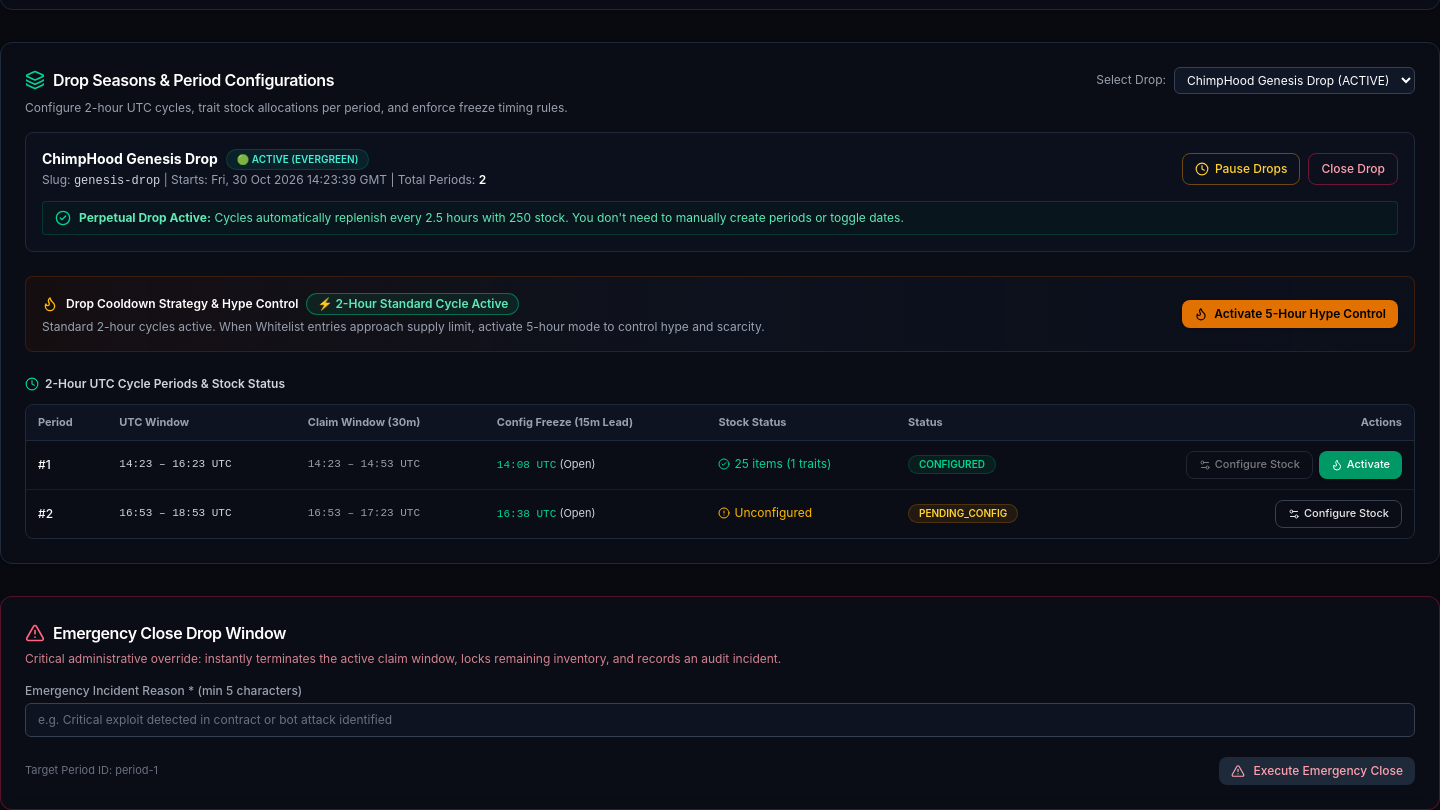
Test: Admin Drops Portal UI - B-1 Drop Configuration Component › opens Stock Configuration modal and saves stock with equal probability default
(page scrolled)
Expected: the text "#2" is shown, [26,489,107,538]
Period 2 Configure Stock button
Step 1. Click the button "Configure Stock" in the row of "18:53" → x=1338, y=514, box [1275,500,1402,528]
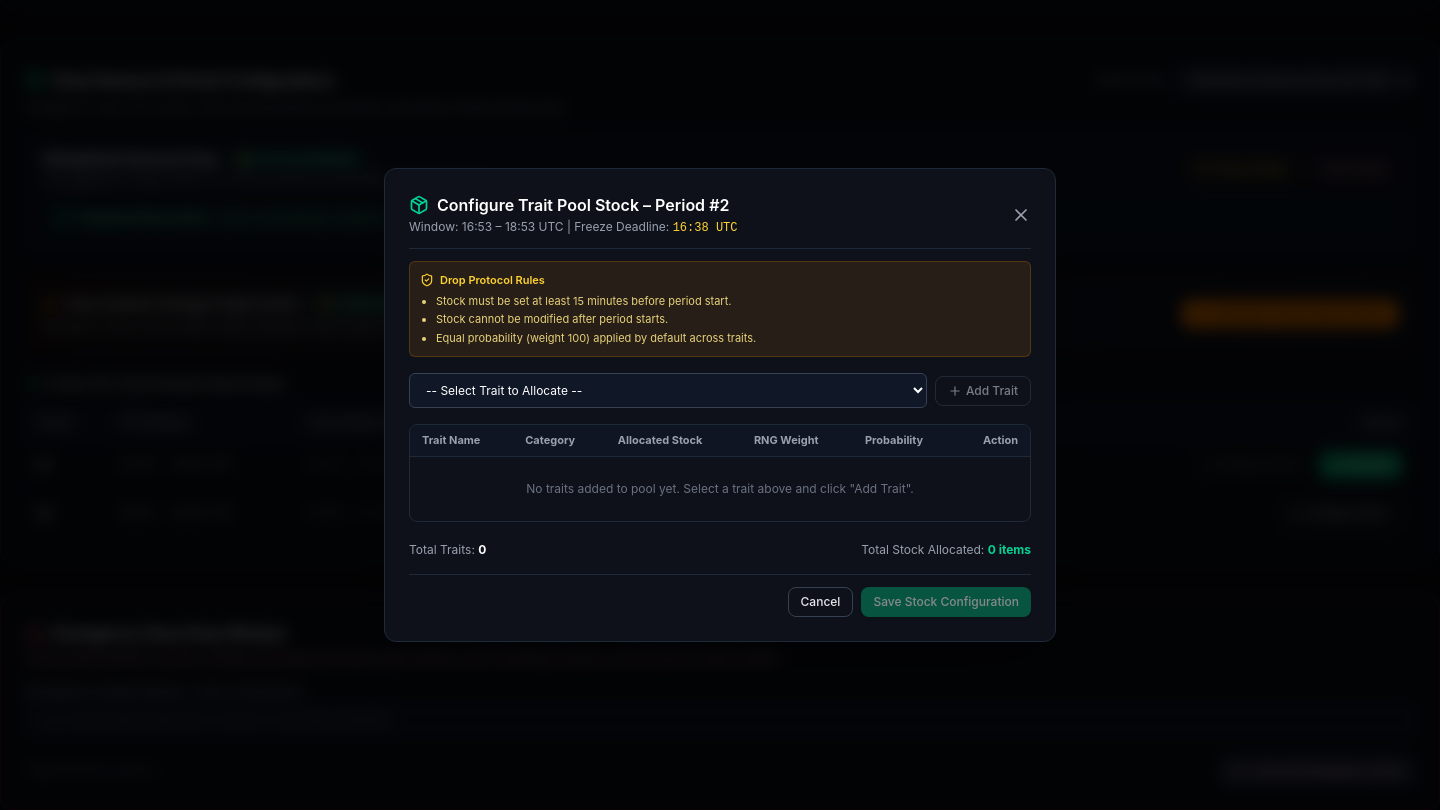
Expected: the heading "Configure Trait Pool Stock – Period #2" is shown, [437,193,729,217]
Expected: the text "Drop Protocol Rules" is shown, [420,273,545,288]
Step 2. Select "Golden Fur (FUR • EPIC)" in the dropdown → x=668, y=391, box [409,373,927,408]
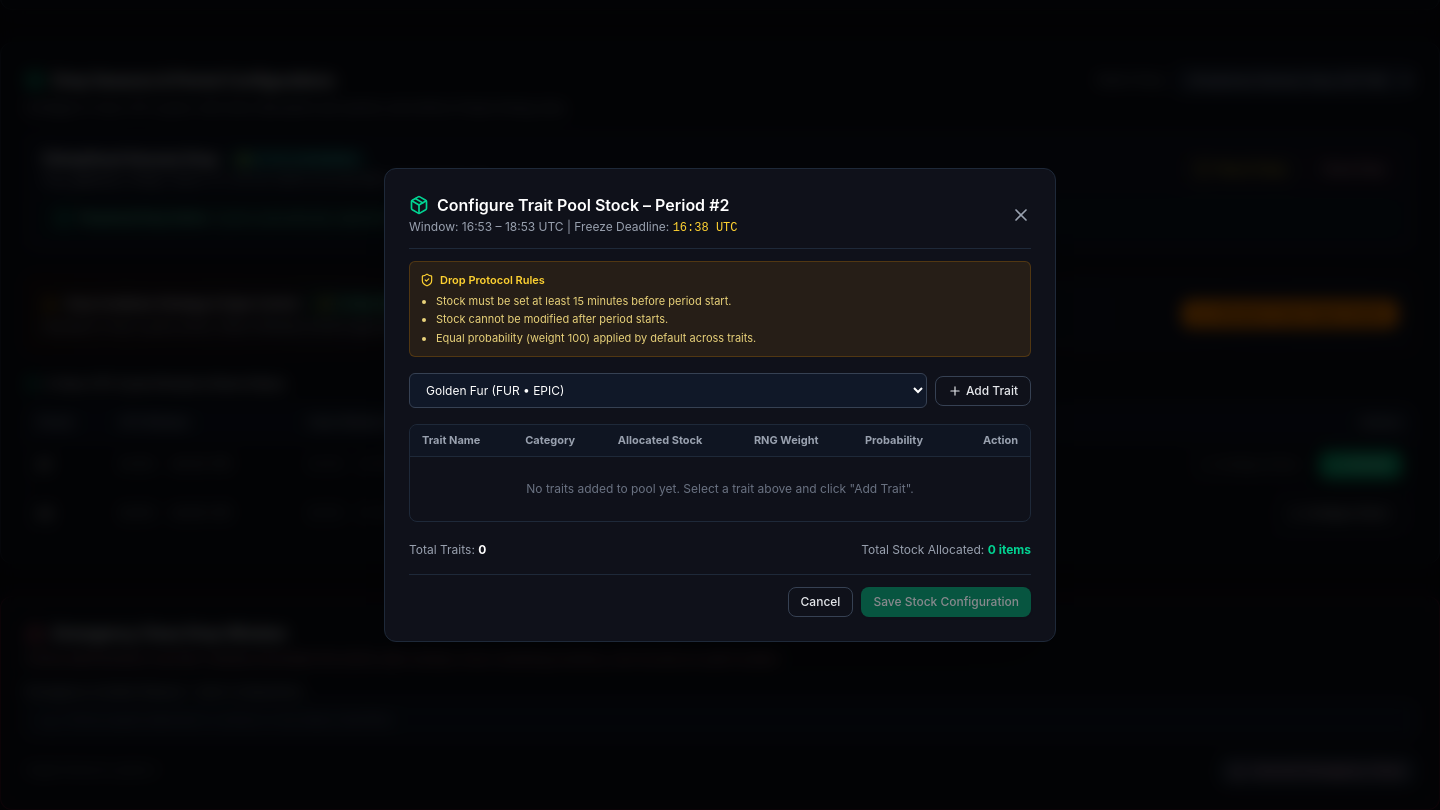
Click Add Trait
Step 3. Click the button "Add Trait" → x=983, y=391, box [935,376,1031,406]
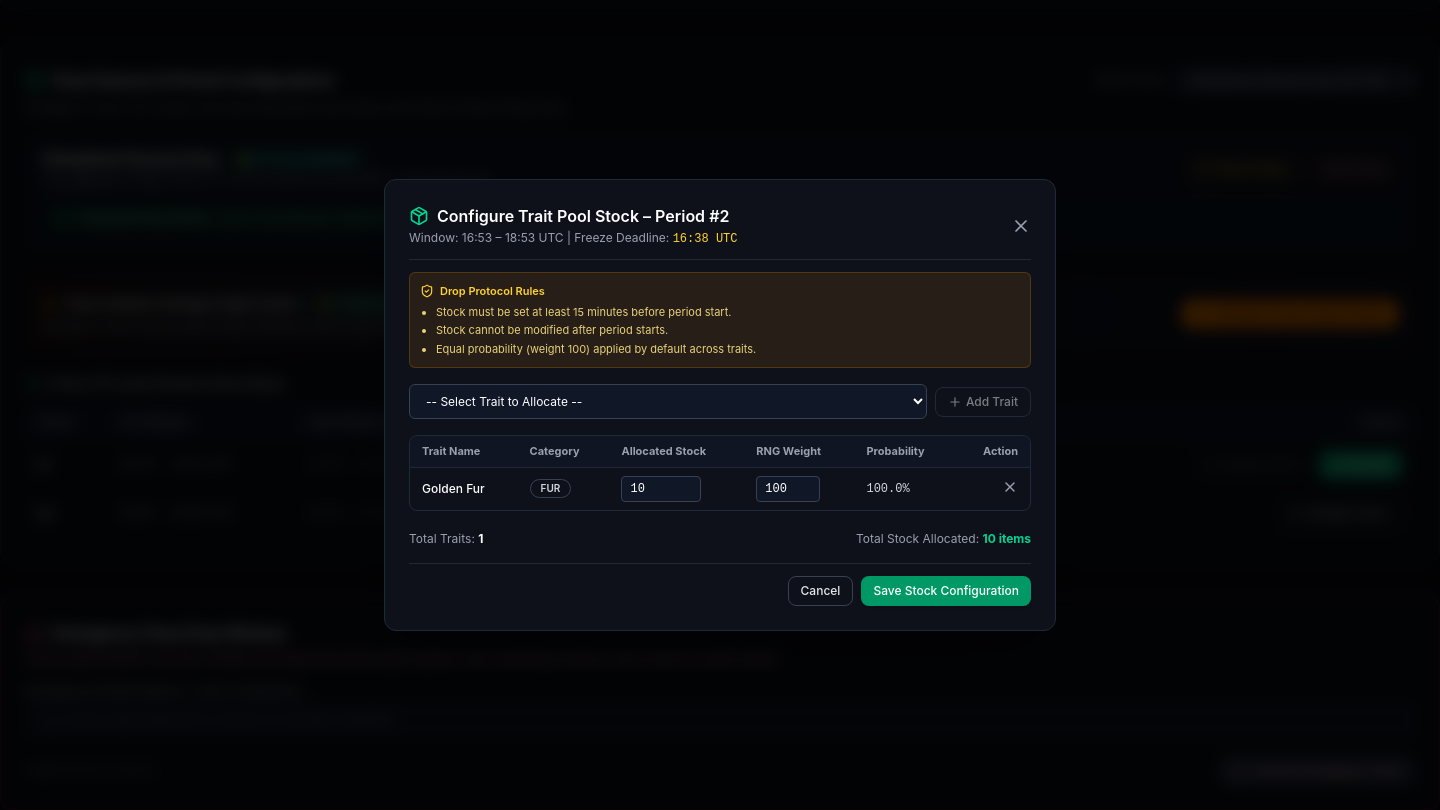
Expected: the 1st number field showing "10" is shown, [621,476,701,502]
Expected: the 2nd number field showing "100" is shown, [756,476,820,502]
Click Save Stock Configuration
Step 4. Click the button "Save Stock Configuration" → x=946, y=591, box [861,576,1031,606]
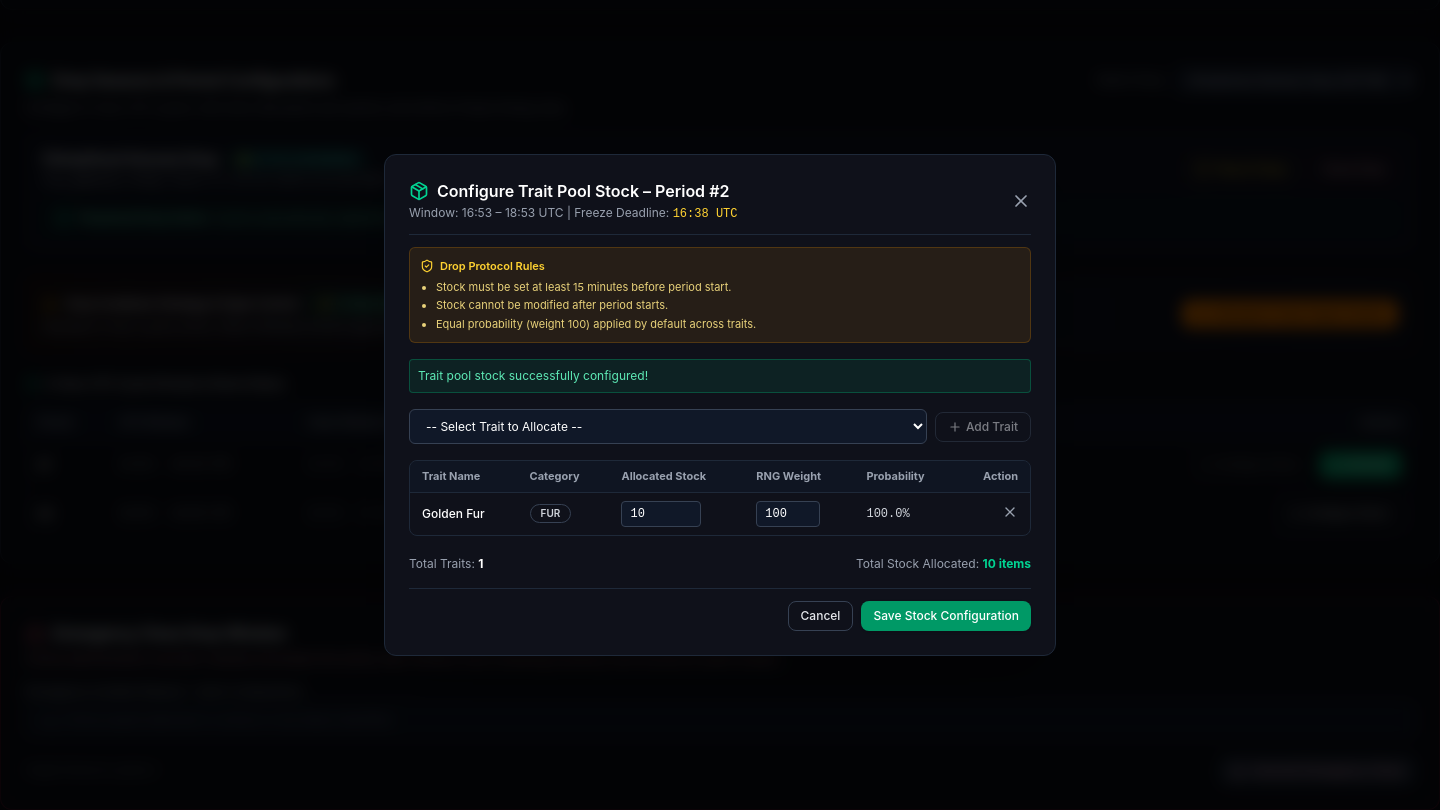
Expected: the text "Trait pool stock successfully configured!" is shown, [409,359,1031,393]
